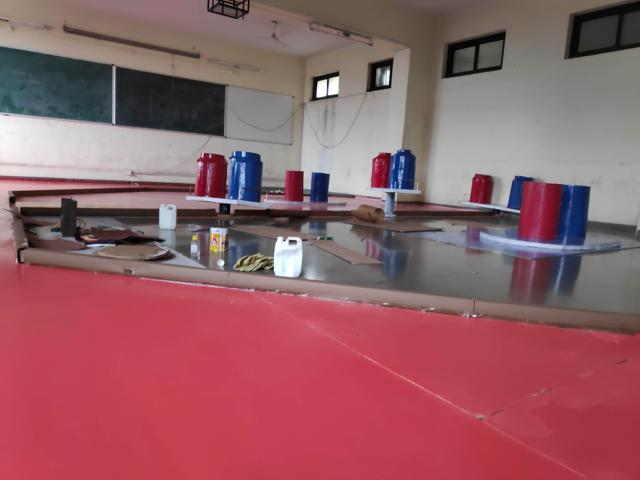Blue: (561, 185, 593, 245), (231, 150, 262, 202), (392, 150, 415, 188), (310, 171, 331, 203), (507, 176, 520, 208)
Red: (519, 185, 561, 241), (194, 152, 228, 199), (370, 149, 392, 188), (470, 173, 494, 204), (284, 170, 305, 202)
